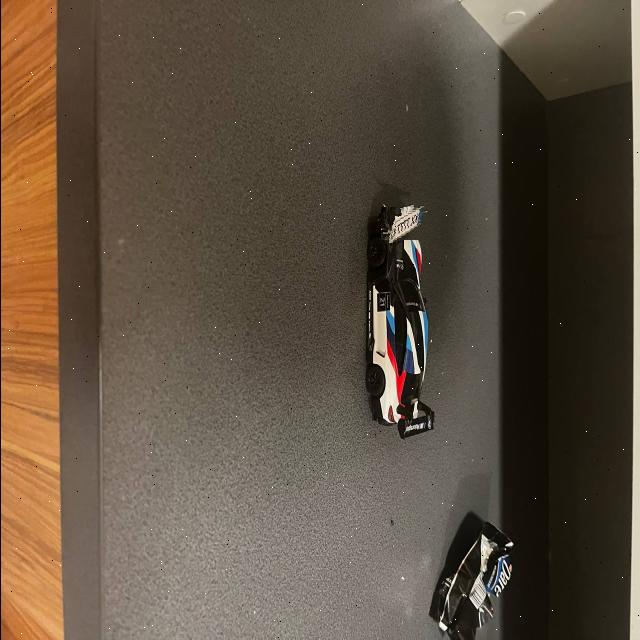KX 7777 KX: (384, 204, 428, 244)
